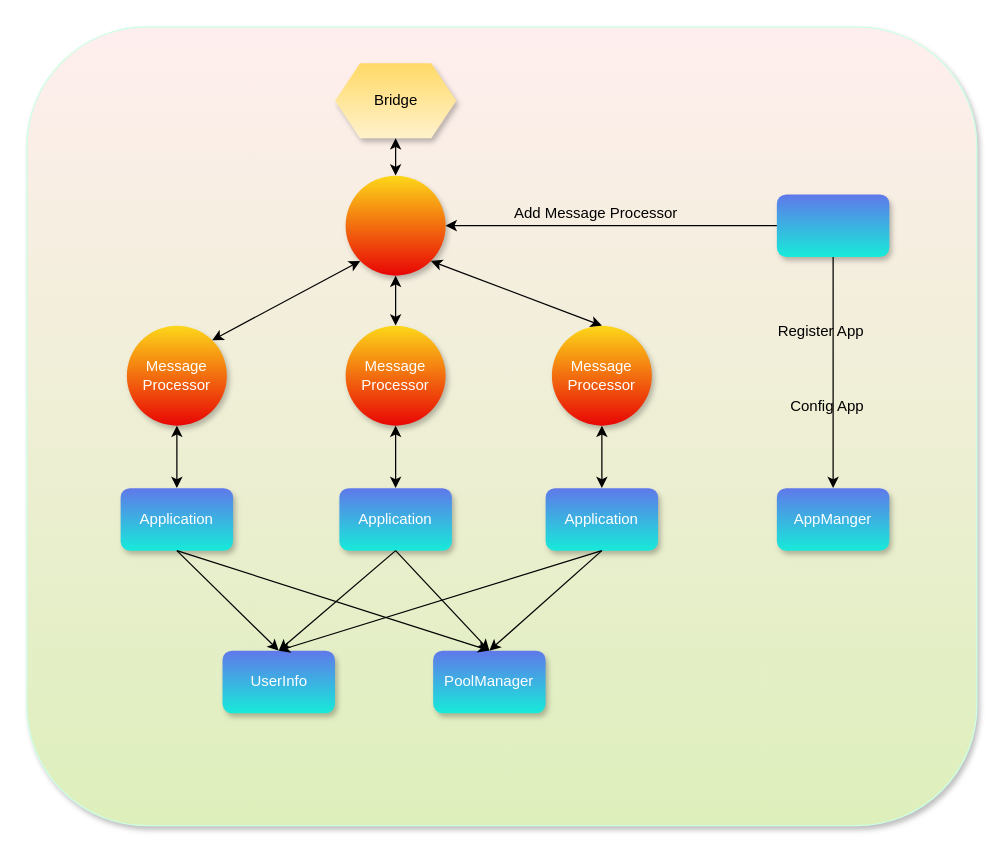
This 1006x856 diagram has some shape labels left out. The shapes that lost their labels are listed below. From the top down, each one's centre as x and y in pixels, then its label:
At point 396,227: "Message Core".
At point 833,227: "Governance".
